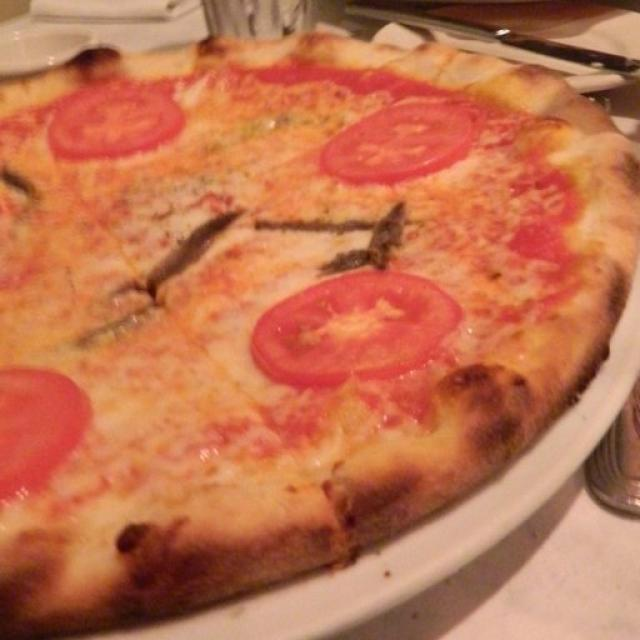Pizza: (2, 34, 640, 639)
Tomato: (244, 256, 469, 388), (0, 357, 102, 495), (47, 76, 181, 170), (331, 95, 471, 180)
